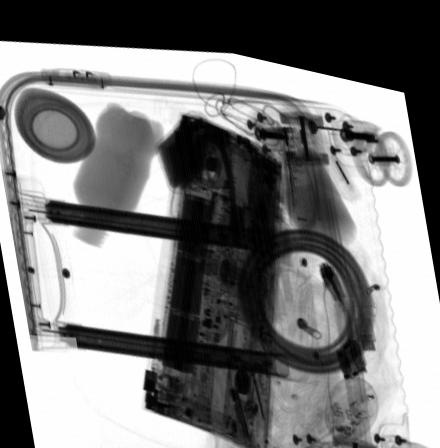Powerbank: (153, 100, 219, 184)
